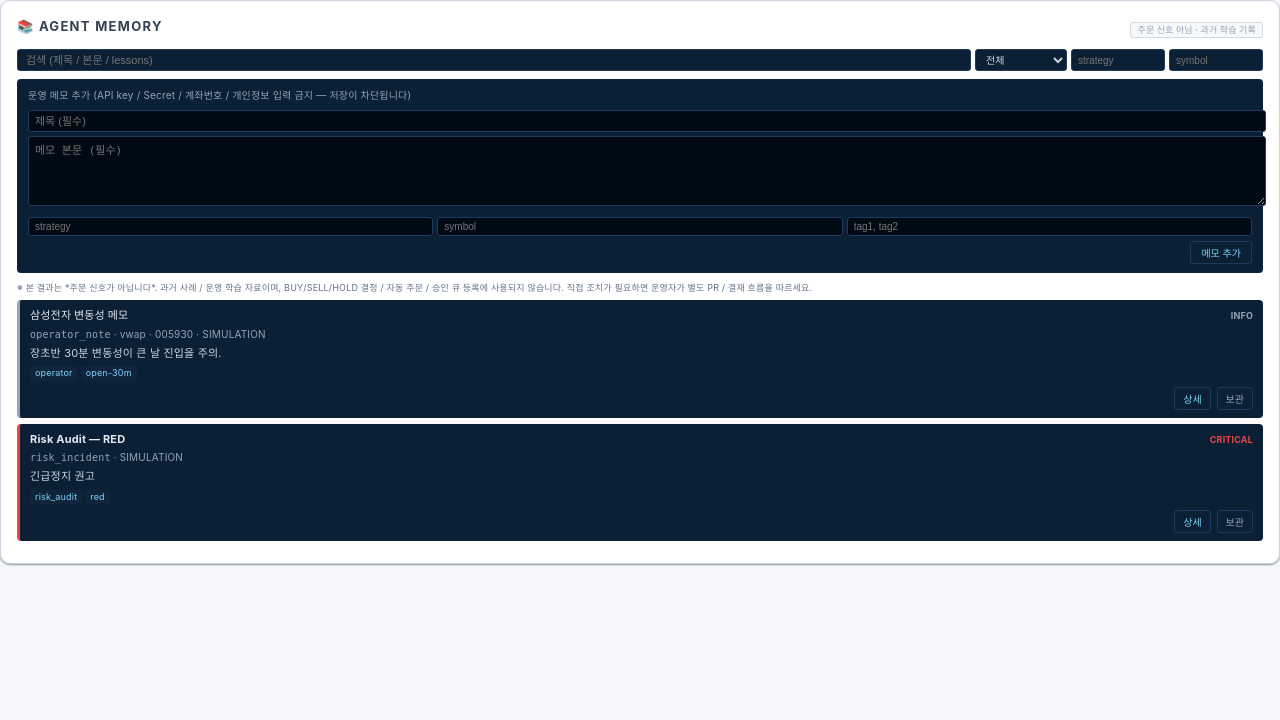
<AgentMemoryCard> › shows error when create returns secret_leak (string error)
Check: the element with test id "agent-memory-list" is shown, box [17, 300, 1263, 542]
Type "x" into the field with test id "agent-memory-add-title".
click(647, 121); type("x")  # box [28, 110, 1266, 132]
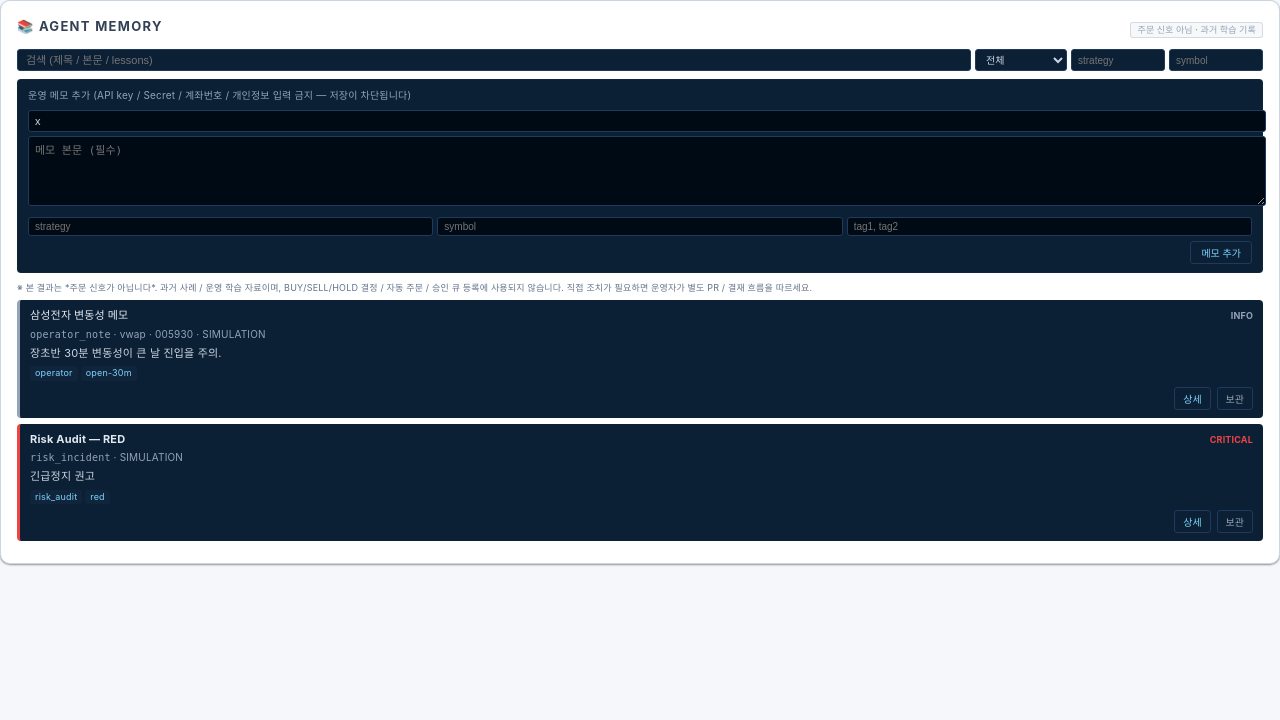
Type "email user@example.com" into the text box with test id "agent-memory-add-summary".
click(647, 171); type("email user@example.com")  # box [28, 136, 1266, 206]
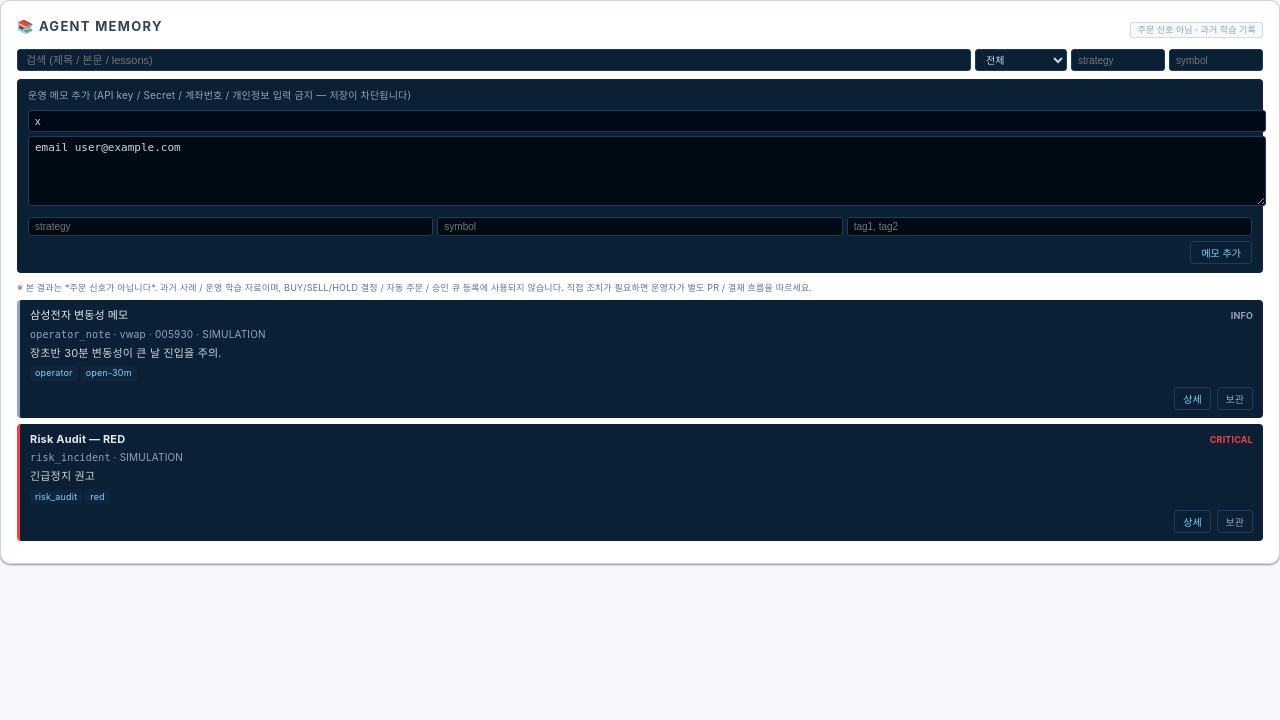
Click the button with test id "agent-memory-add-submit".
click(1221, 252)  # box [1190, 241, 1252, 264]
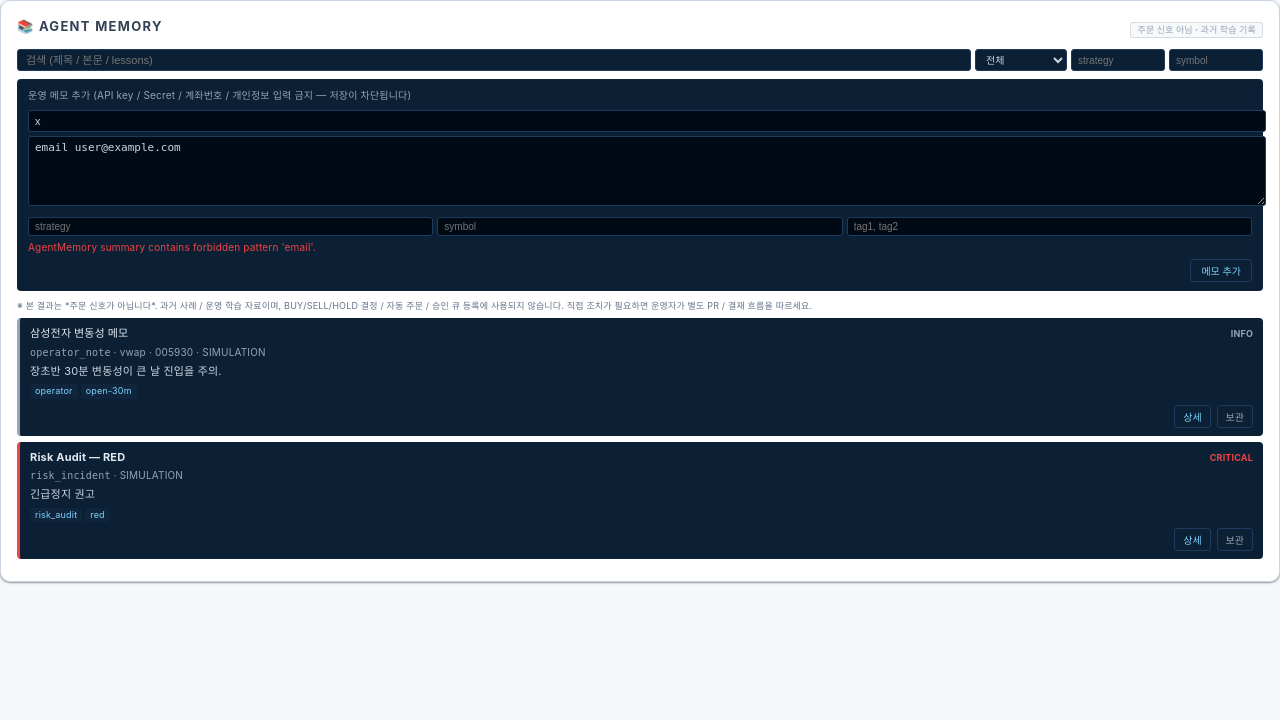
Check: the text with test id "agent-memory-add-error" shows "forbidden pattern", box [28, 241, 316, 253]
